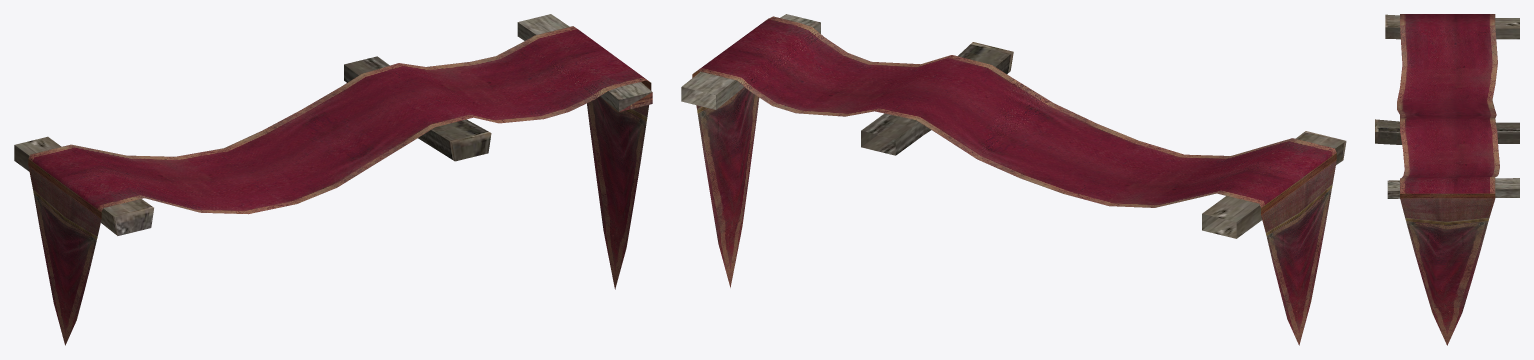
The model's file is 2Flag.FBX.
3 views of the same model, side by side, from view 1: azimuth 30°, elevation 25°; view 2: azimuth 150°, elevation 25°; view 3: azimuth 270°, elevation 25° (orthographic). The views are drawn at different scales.
Visible parts, largest first — view 1: LV_Migdal_City_MarketTent01_SM_KJY; view 2: LV_Migdal_City_MarketTent01_SM_KJY; view 3: LV_Migdal_City_MarketTent01_SM_KJY.
Boxes of the visible parts, x1,y1,x2,y2 form: LV_Migdal_City_MarketTent01_SM_KJY: (14,14,652,345); LV_Migdal_City_MarketTent01_SM_KJY: (681,14,1346,345); LV_Migdal_City_MarketTent01_SM_KJY: (1375,14,1519,345).
Bounding box in the file's own units: 135 × 56.89 × 47.27.
